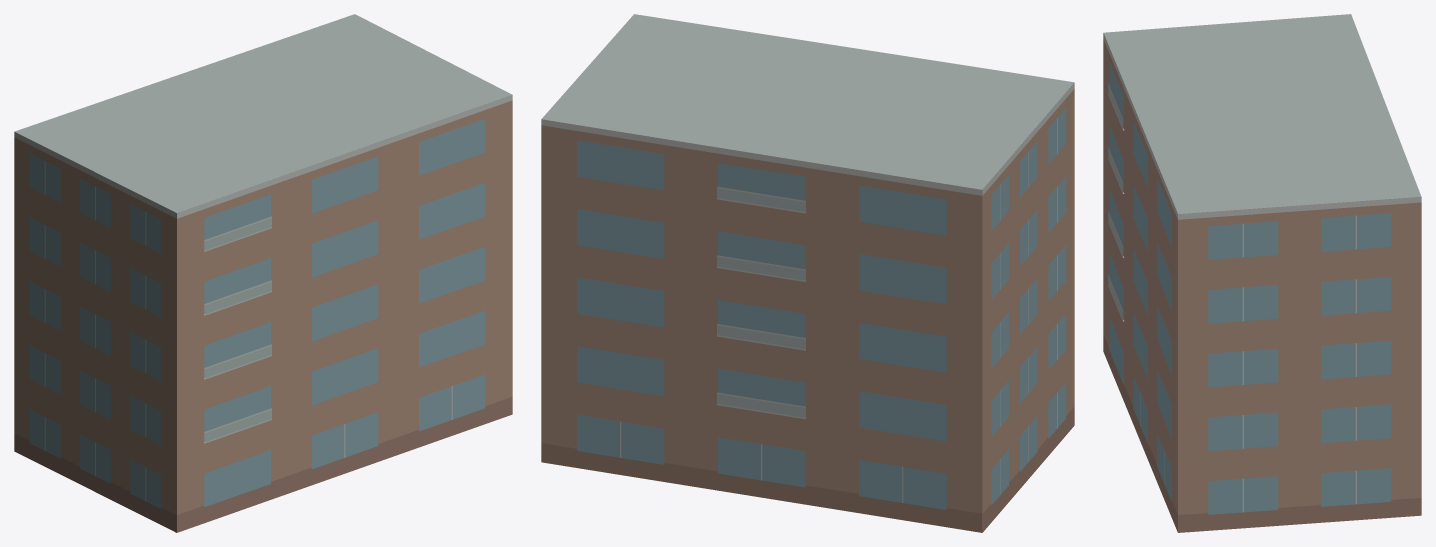
File: survey-upis-32981525.glb
3 views of the same model, side by side, from view 1: azimuth 30°, elevation 25°; view 2: azimuth 150°, elevation 25°; view 3: azimuth 270°, elevation 25° (orthographic). The views are drawn at different scales.
Parts seen in each view (by area): view 1: survey-upis-32981525.tmp; view 2: survey-upis-32981525.tmp; view 3: survey-upis-32981525.tmp.
Boxes of the visible parts, bbox=[...] form: survey-upis-32981525.tmp: bbox=[14, 14, 512, 532]; survey-upis-32981525.tmp: bbox=[541, 14, 1074, 532]; survey-upis-32981525.tmp: bbox=[1103, 14, 1421, 532].
Bounding box in the file's own units: 18.6 × 13.8 × 12.5.
